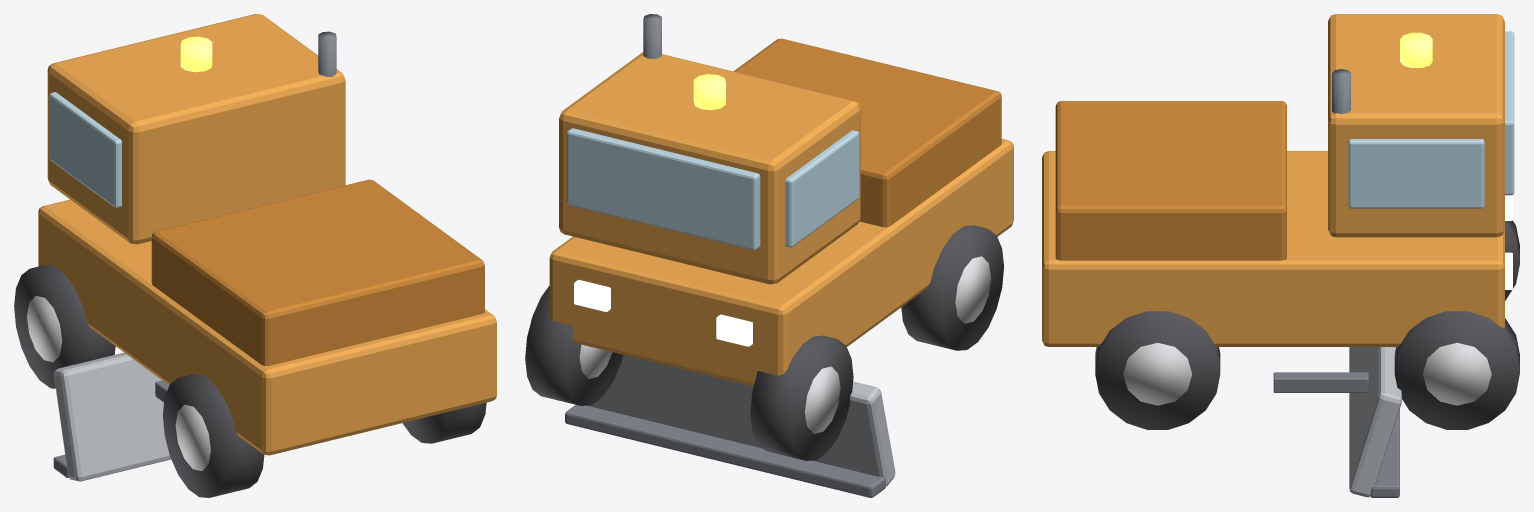
The model's file is plow.glb.
3 renders of one model, left to right at view 1: azimuth 30°, elevation 25°; view 2: azimuth 150°, elevation 25°; view 3: azimuth 270°, elevation 25°, orthographic.
Parts seen in each view (by area): view 1: cab, bed, body, bladeFace, wheel3, wheel1, glassS2, wheel2, wheel3_hub, wheel1_hub, beacon, stack; view 2: body, cab, bed, glassF, bladeFace, wheel1, bladeLip, wheel3, wheel0, glassS2, wheel1_hub, wheel3_hub (+5 smaller); view 3: body, bed, cab, glassS1, wheel0, wheel2, bladeFace, wheel0_hub, wheel2_hub, arm1, glassF, bladeLip (+3 smaller).
Boxes of the visible parts, x1,y1,x2,y2 form: cab: (47,14,345,244); bed: (151,179,484,366); body: (38,199,496,455); bladeFace: (53,352,171,481); wheel3: (163,374,264,497); wheel1: (14,265,115,388); glassS2: (49,92,121,207); wheel2: (402,402,486,443); wheel3_hub: (175,404,210,470); wheel1_hub: (27,296,62,362); beacon: (180,36,212,72); stack: (318,31,336,77); body: (549,139,1013,386); cab: (559,52,860,284); bed: (733,38,1001,227); glassF: (567,128,760,250); bladeFace: (588,355,895,486); wheel1: (750,335,853,460); bladeLip: (565,405,885,497); wheel3: (901,225,1003,350); wheel0: (525,285,623,405); glassS2: (785,130,858,247); wheel1_hub: (804,366,840,433); wheel3_hub: (955,256,990,323); body: (1042,151,1504,346); bed: (1055,101,1286,260); cab: (1328,14,1504,237); glassS1: (1348,139,1484,208); wheel0: (1394,311,1519,429); wheel2: (1095,311,1220,429); bladeFace: (1349,347,1401,497); wheel0_hub: (1423,342,1491,405); wheel2_hub: (1123,343,1192,405); arm1: (1273,372,1368,392); glassF: (1505,31,1514,195); bladeLip: (1370,409,1399,497).
Bounding box in the file's own units: 2.6 × 3.22 × 3.51.
